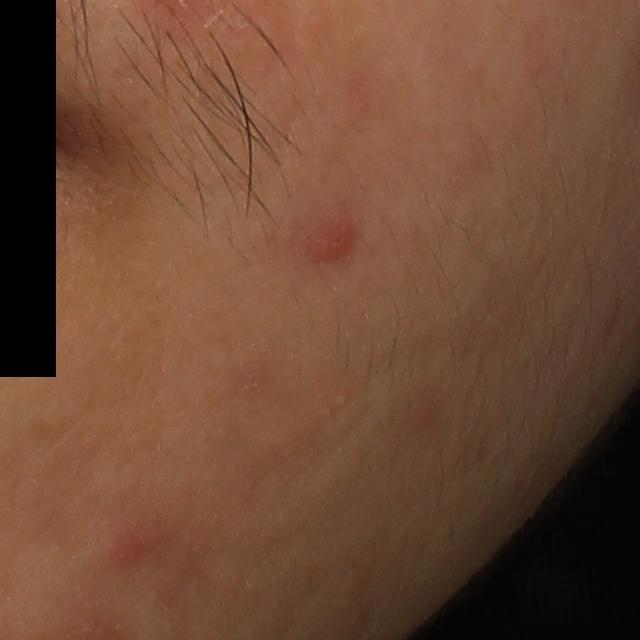papule: (292, 218, 359, 271), (100, 522, 160, 570)
